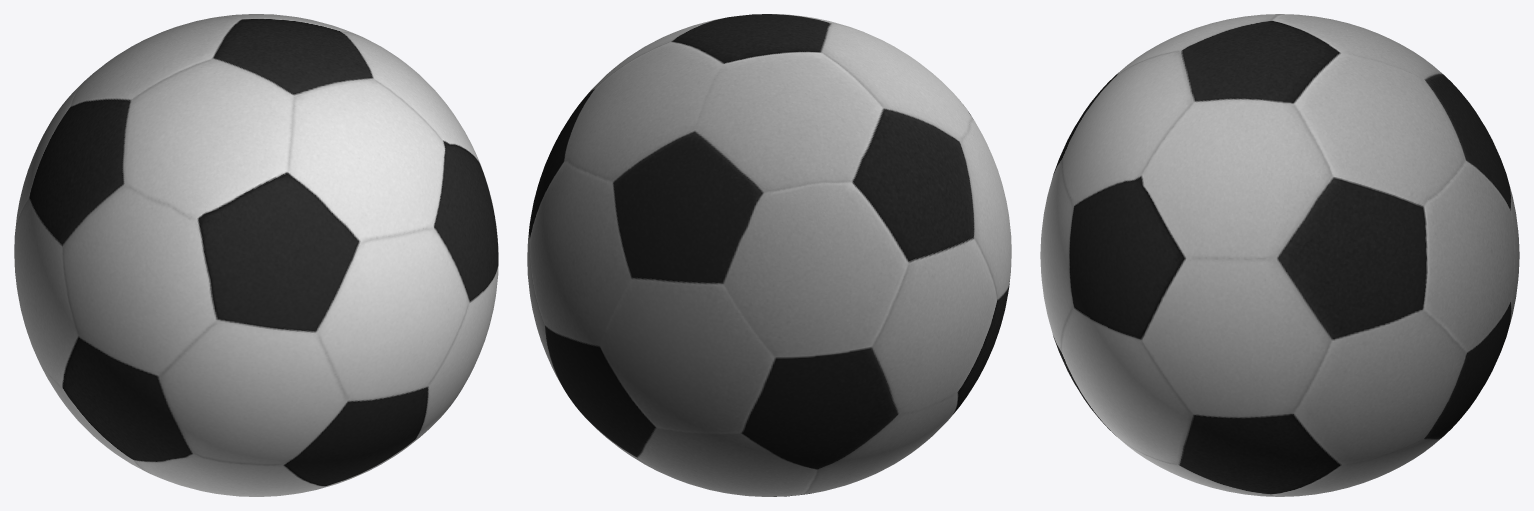
Rendered from ball_move.obj.
3 renders of one model, left to right at view 1: azimuth 30°, elevation 25°; view 2: azimuth 150°, elevation 25°; view 3: azimuth 270°, elevation 25°, orthographic.
Parts seen in each view (by area): view 1: 10536_soccerball_V1_iterations-2; view 2: 10536_soccerball_V1_iterations-2; view 3: 10536_soccerball_V1_iterations-2.
Boxes of the visible parts, <box> form: 10536_soccerball_V1_iterations-2: <box>14,14,498,496</box>; 10536_soccerball_V1_iterations-2: <box>527,14,1011,496</box>; 10536_soccerball_V1_iterations-2: <box>1040,14,1519,496</box>.
Bounding box in the file's own units: 0.4353 × 0.4353 × 0.4353.
Materials: 1 (1 with a texture image).
